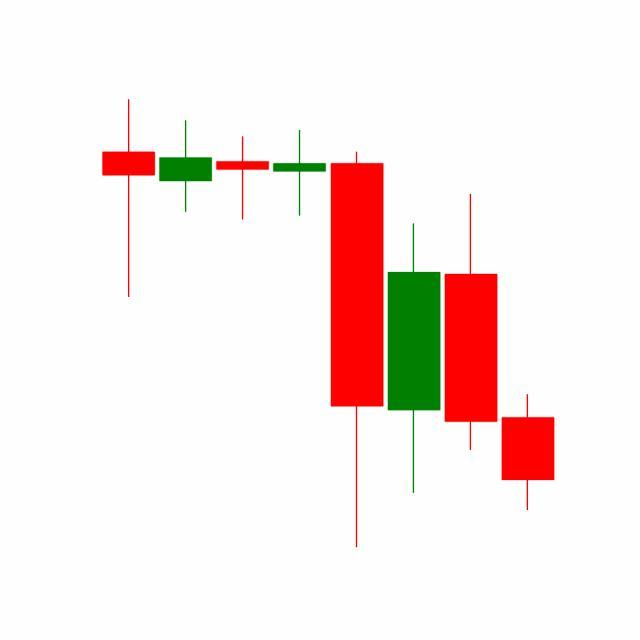Hikkake Pattern: (214, 126, 501, 549)
